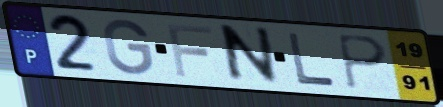2: (46, 10, 106, 78)
F: (164, 22, 215, 79)
G: (101, 17, 156, 77)
L: (285, 31, 339, 88)
N: (221, 23, 282, 87)
P: (335, 32, 391, 91)
